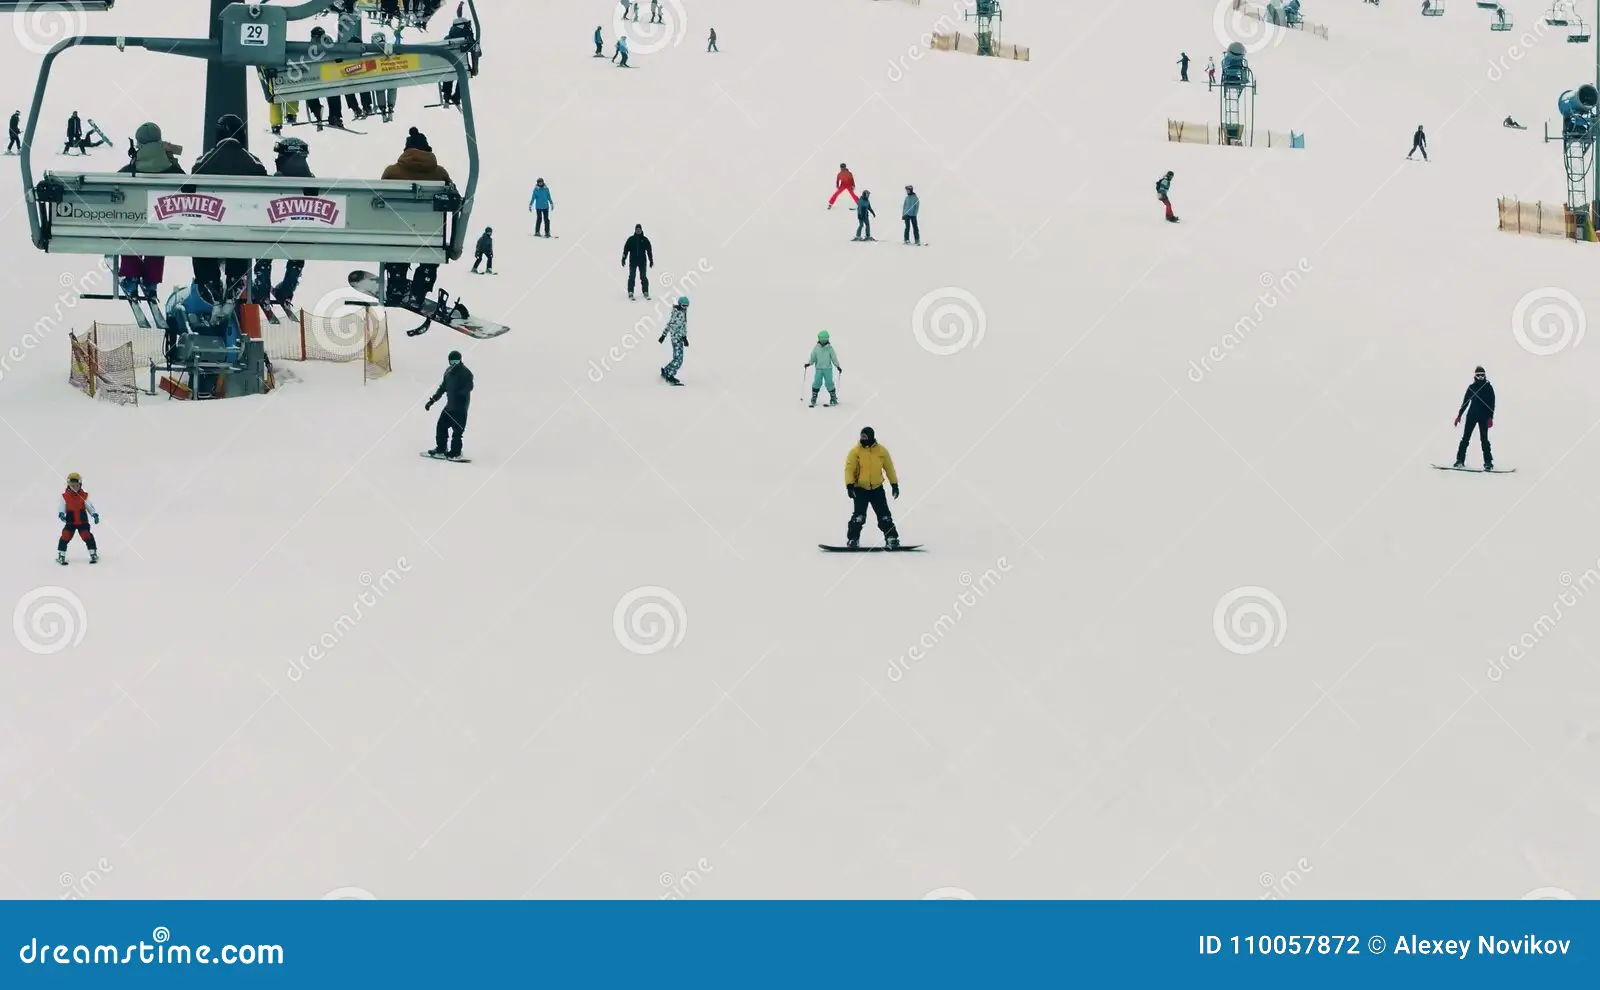skier: (1432, 357, 1529, 478), (38, 465, 122, 570), (792, 326, 855, 413), (518, 175, 570, 246), (615, 216, 655, 301), (466, 222, 505, 279)
snowboarder: (798, 413, 934, 565), (422, 340, 482, 469), (650, 292, 698, 391), (1150, 165, 1194, 232), (1401, 117, 1434, 168)
